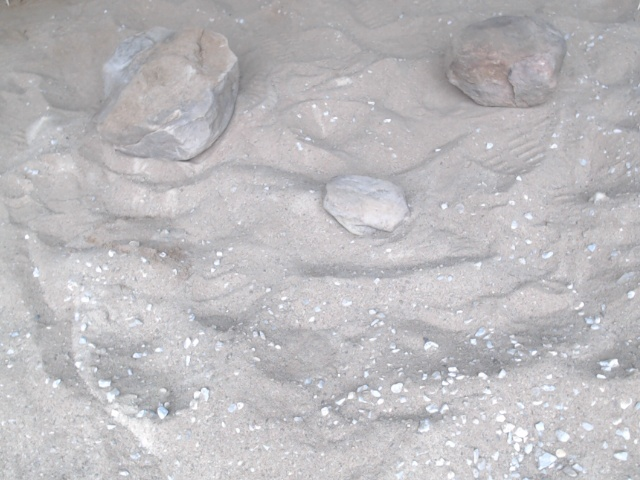rock: (87, 20, 246, 168), (435, 9, 572, 114), (318, 171, 413, 245)
